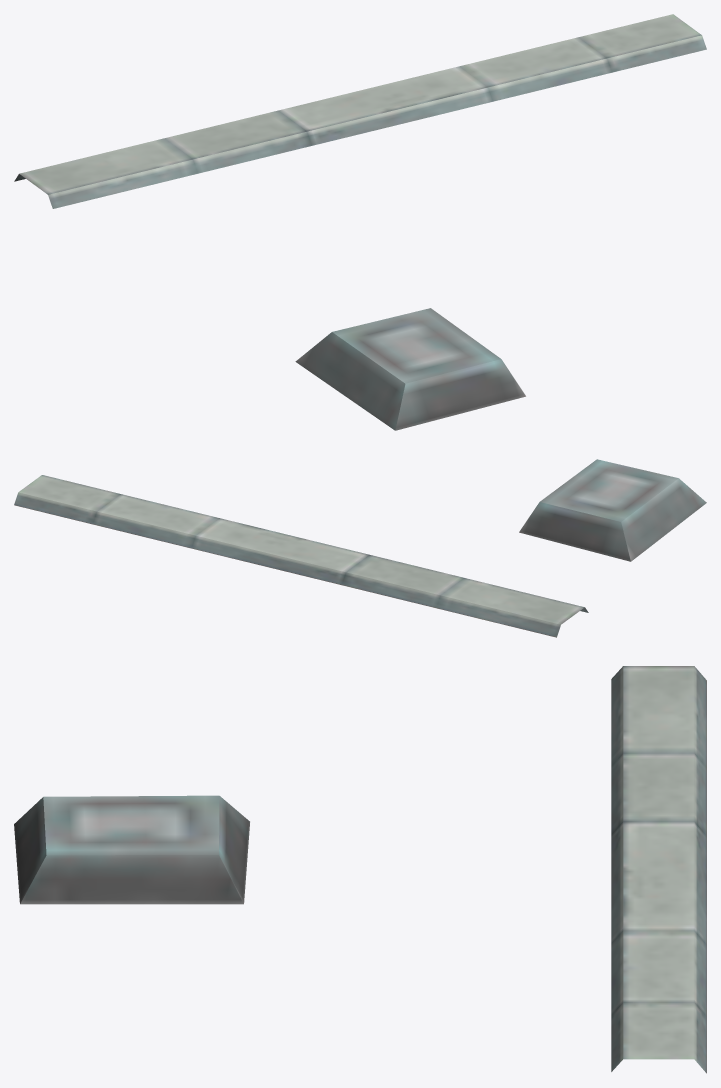
File: jm_dibiaozajian04.FBX
The picture shows the model from 3 angles, top to bottom: view 1: azimuth 30°, elevation 25°; view 2: azimuth 150°, elevation 25°; view 3: azimuth 270°, elevation 25°; orthographic projection. The views are drawn at different scales.
Visible parts, largest first — view 1: jm_dibiaozajian04_001, jm_dibiaozajian04_003; view 2: jm_dibiaozajian04_001, jm_dibiaozajian04_003; view 3: jm_dibiaozajian04_001, jm_dibiaozajian04_003.
Boxes of the visible parts, x1,y1,x2,y2 form: jm_dibiaozajian04_001: (14,14,706,208); jm_dibiaozajian04_003: (295,308,525,430); jm_dibiaozajian04_001: (14,475,588,637); jm_dibiaozajian04_003: (519,459,706,561); jm_dibiaozajian04_001: (611,666,706,1073); jm_dibiaozajian04_003: (14,795,249,904).
Size of the model in its own units: 1.88 by 0.2184 by 1.4.
